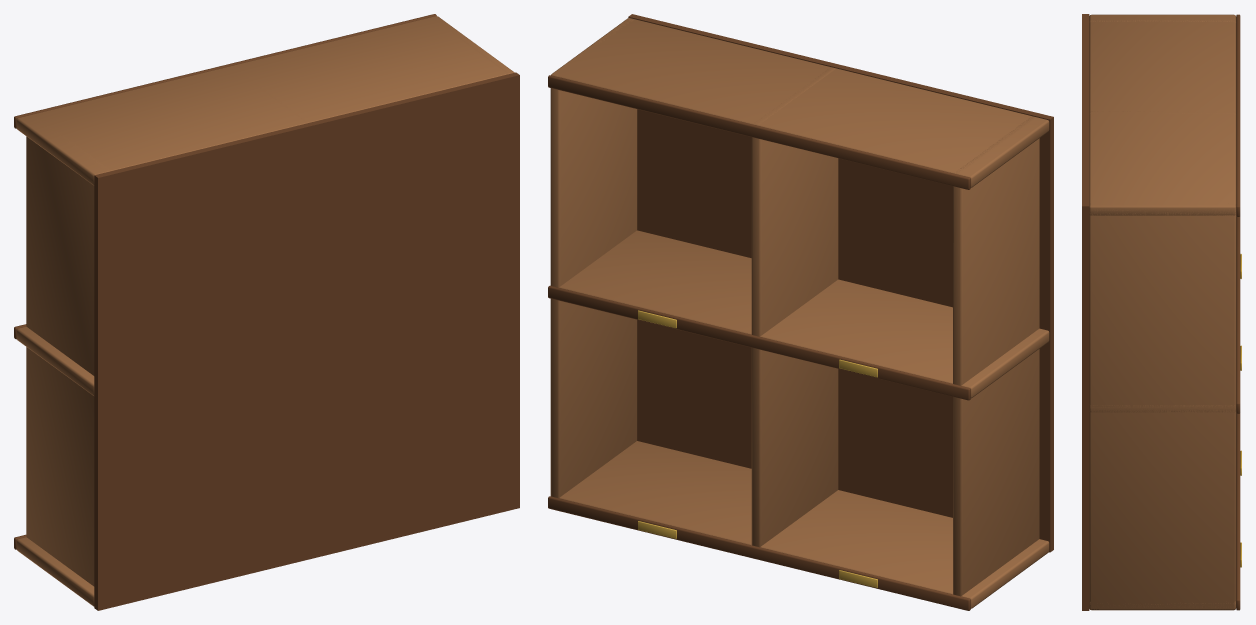
The model's file is itemshelf_2x2.fbx.
3 views of the same model, side by side, from view 1: azimuth 30°, elevation 25°; view 2: azimuth 150°, elevation 25°; view 3: azimuth 270°, elevation 25° (orthographic). The views are drawn at different scales.
Visible parts, largest first — view 1: itemshelf_2x2; view 2: itemshelf_2x2; view 3: itemshelf_2x2.
Boxes of the visible parts, <box> form: itemshelf_2x2: <box>14,14,519,610</box>; itemshelf_2x2: <box>548,14,1053,610</box>; itemshelf_2x2: <box>1082,14,1241,610</box>.
Bounding box in the file's own units: 1.3 × 1.28 × 0.456.
